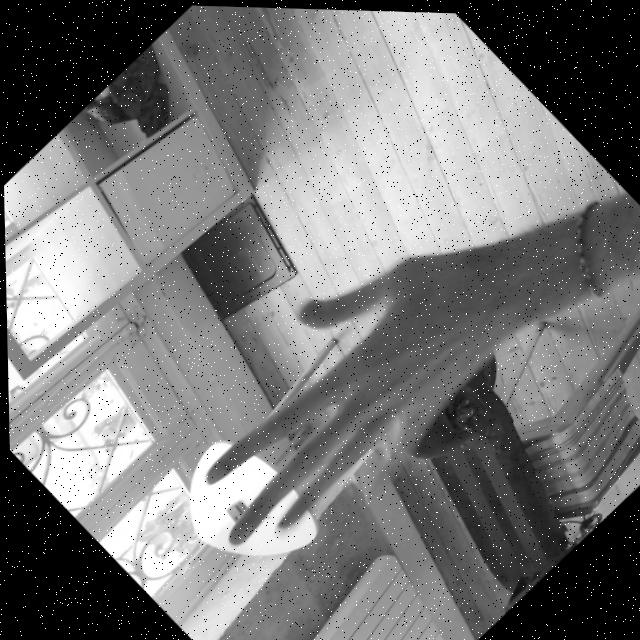hand: (135, 188, 548, 599)
